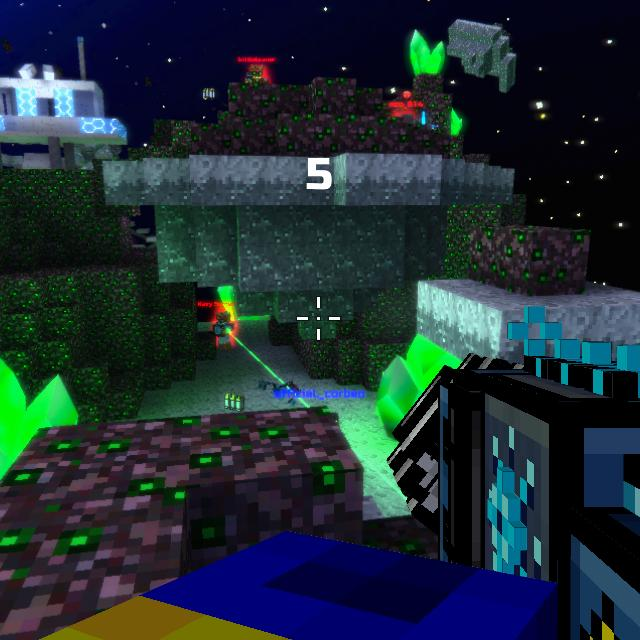Enemy: (211, 313, 234, 349)
